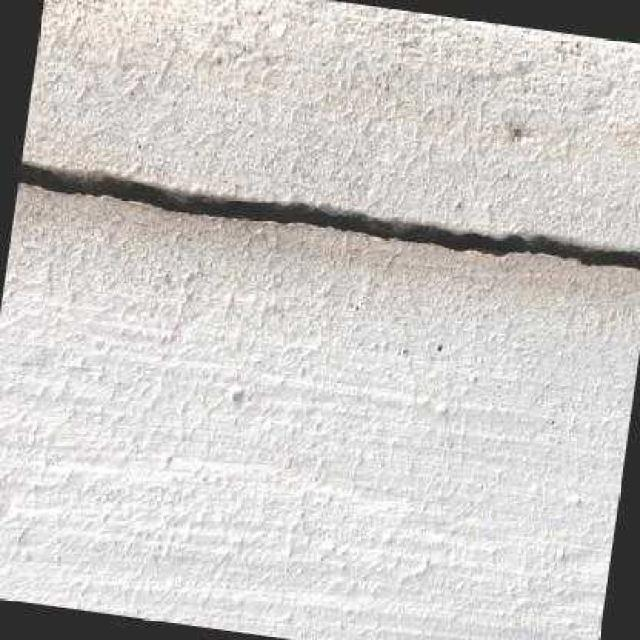D00: (17, 160, 640, 271)
